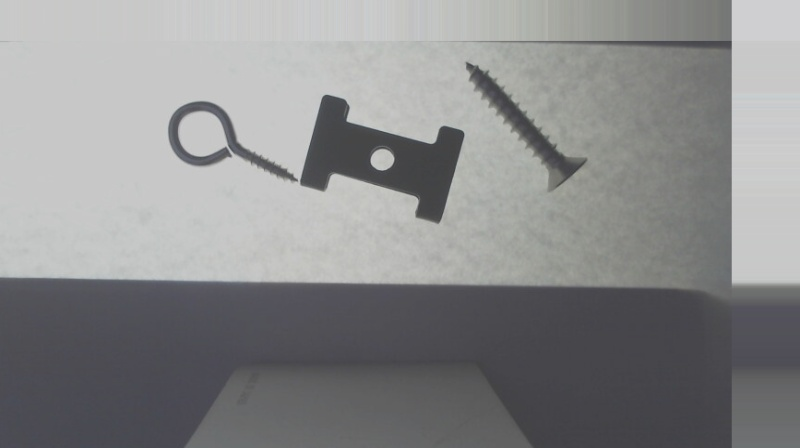O001: (166, 99, 299, 185)
O002: (303, 93, 464, 226)
S001: (465, 61, 590, 192)
